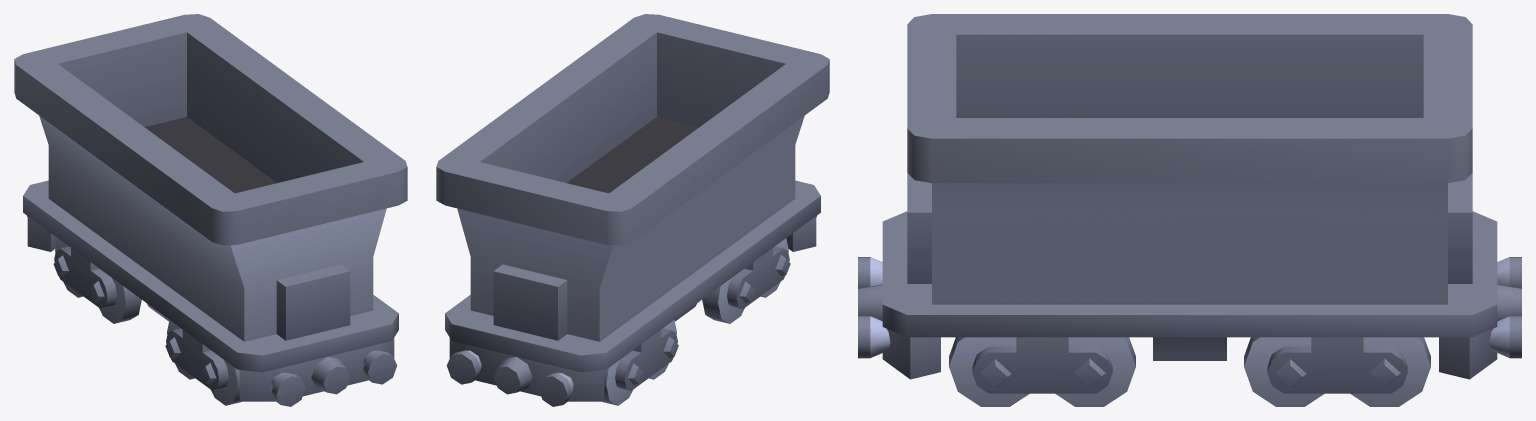
The model's file is train-carriage-box.glb.
The picture shows the model from 3 angles, left to right: view 1: azimuth 30°, elevation 25°; view 2: azimuth 150°, elevation 25°; view 3: azimuth 270°, elevation 25°; orthographic projection. The views are drawn at different scales.
Visible parts, largest first — view 1: train-carriage-box; view 2: train-carriage-box; view 3: train-carriage-box.
Part boxes in pixels (<box>): train-carriage-box: <box>14,14,407,406</box>; train-carriage-box: <box>436,14,829,406</box>; train-carriage-box: <box>858,14,1521,406</box>.
Bounding box in the file's own units: 1.2 × 1.3 × 2.7.
1 material, 1 textured.
